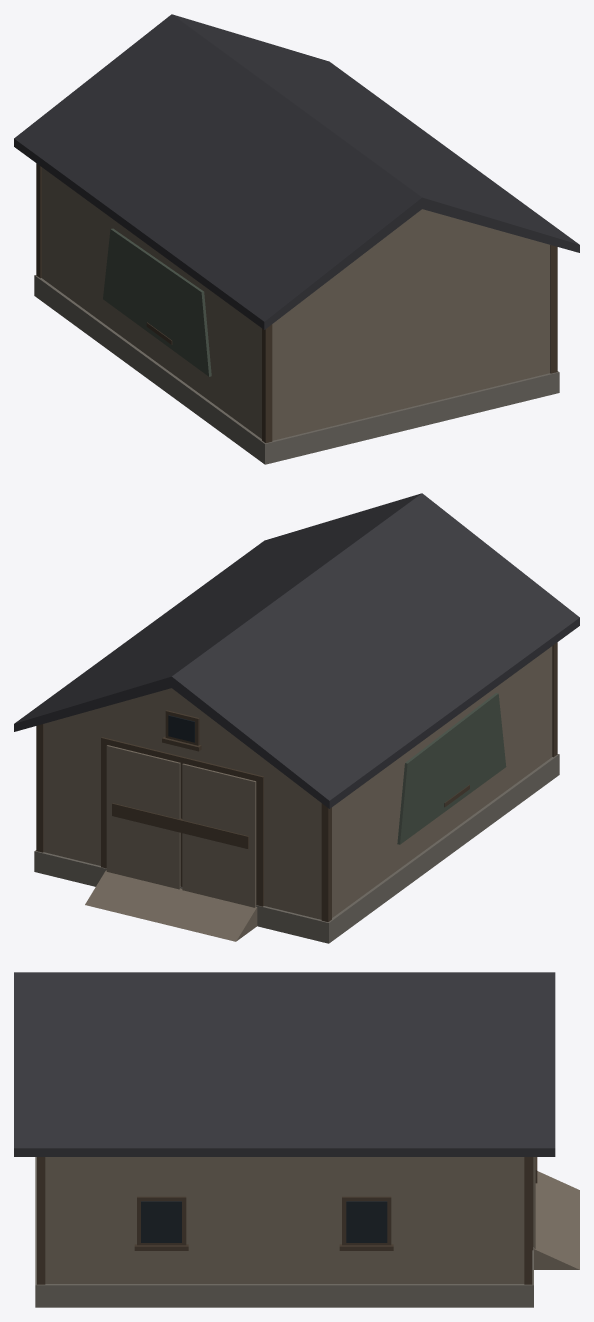
Rendered from net_shed.glb.
The picture shows the model from 3 angles, top to bottom: view 1: azimuth 30°, elevation 25°; view 2: azimuth 150°, elevation 25°; view 3: azimuth 270°, elevation 25°; orthographic projection. The views are drawn at different scales.
Visible parts, largest first — view 1: net_shed; view 2: net_shed; view 3: net_shed.
Part boxes in pixels (x1,y1,x2,y2): net_shed: (14,14,579,464); net_shed: (14,493,579,943); net_shed: (14,972,579,1307).
Bounding box in the file's own units: 4.8 × 3.47 × 6.9.
